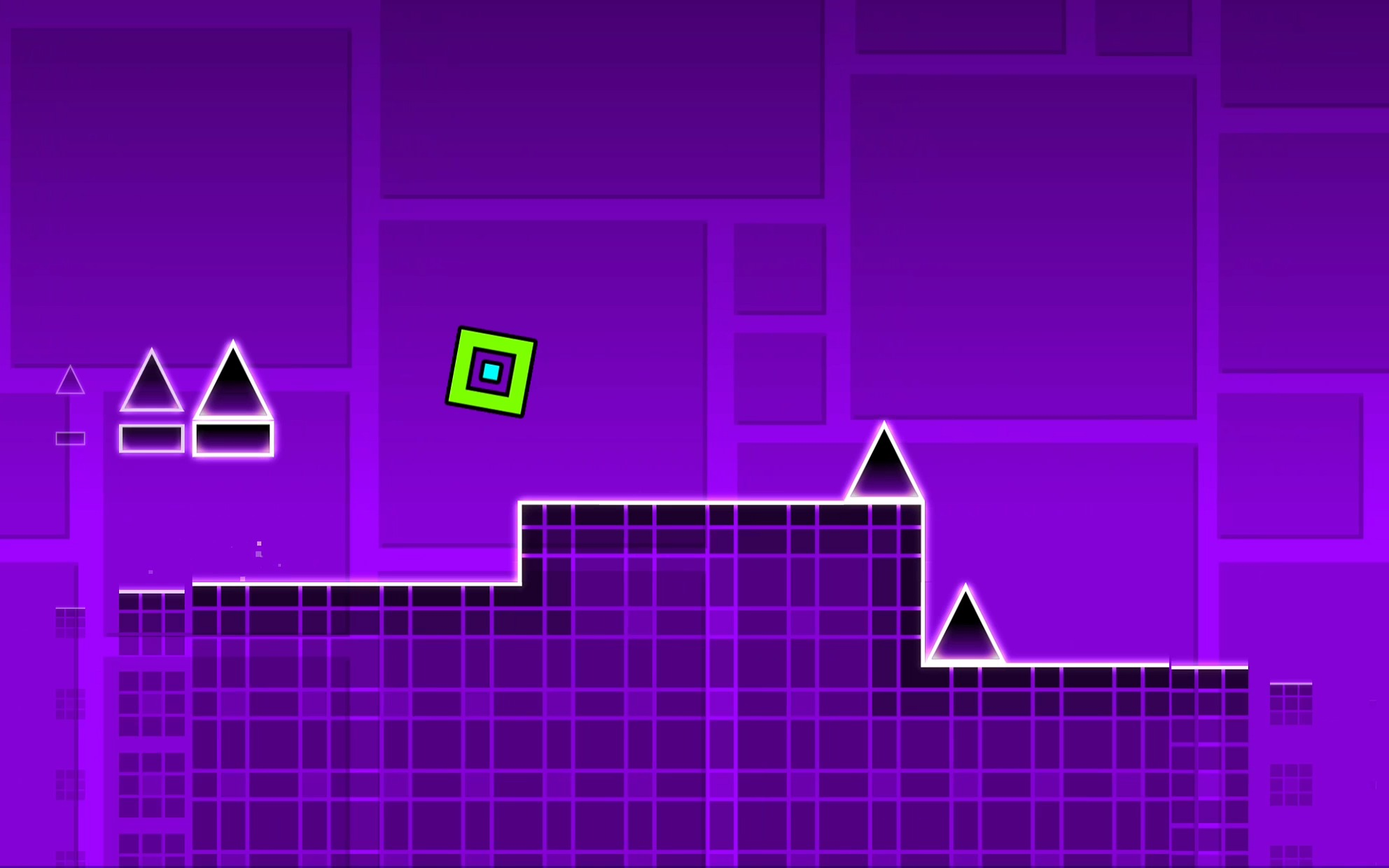Block2: (519, 500, 924, 868), (108, 584, 523, 868), (919, 661, 1318, 868)
Block3: (194, 419, 274, 456), (120, 426, 186, 453)
Player: (447, 327, 535, 416)
Spike: (194, 340, 272, 447), (927, 584, 1004, 663), (845, 421, 921, 500), (120, 349, 181, 410)
